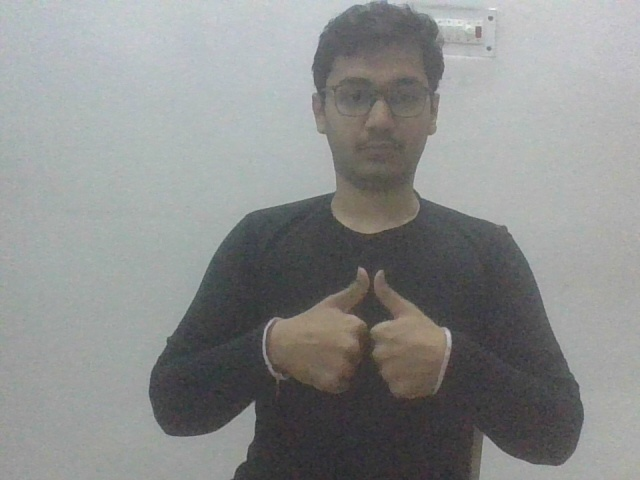A: (259, 262, 454, 397)
